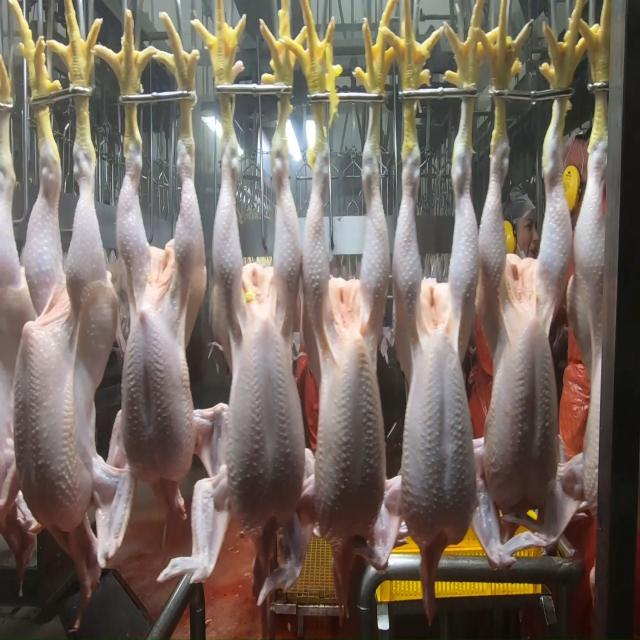chicken: (15, 149, 106, 543), (304, 160, 392, 542), (214, 142, 299, 534), (396, 168, 478, 552), (482, 171, 575, 507), (114, 147, 205, 479)
